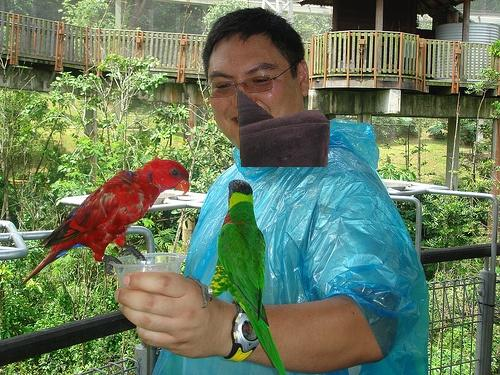tampered: (237, 88, 330, 167)
